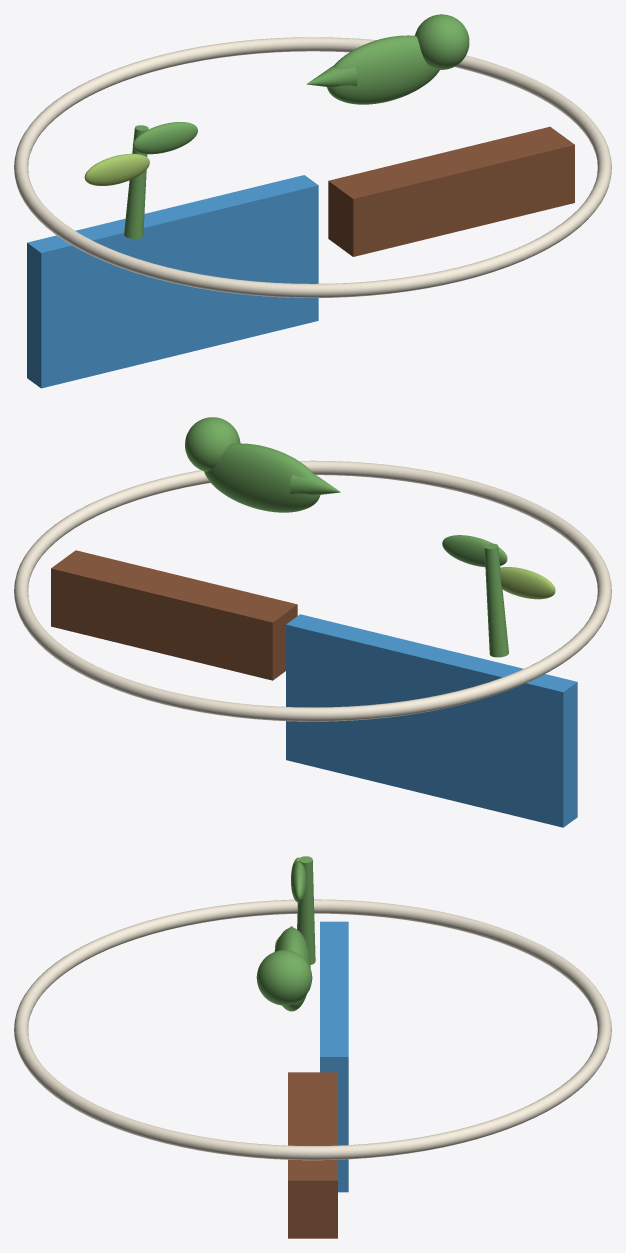
File: bio-p1-habitat.glb
3 renders of one model, top to bottom at view 1: azimuth 30°, elevation 25°; view 2: azimuth 150°, elevation 25°; view 3: azimuth 270°, elevation 25°, orthographic.
Parts seen in each view (by area): view 1: pond-water-place, shelter-log-place, habitat-boundary-home, resident-organism-body, resident-organism-head, producer-plant-leaf-left, producer-plant-leaf-right, producer-plant-stem, resident-organism-tail; view 2: pond-water-place, shelter-log-place, habitat-boundary-home, resident-organism-body, resident-organism-head, producer-plant-stem, producer-plant-leaf-left, producer-plant-leaf-right, resident-organism-tail; view 3: habitat-boundary-home, shelter-log-place, pond-water-place, resident-organism-head, producer-plant-stem, resident-organism-body, producer-plant-leaf-right.
Boxes of the visible parts, bbox=[...] form: pond-water-place: bbox=[27, 175, 318, 388]; shelter-log-place: bbox=[328, 126, 574, 256]; habitat-boundary-home: bbox=[14, 37, 611, 297]; resident-organism-body: bbox=[327, 35, 439, 104]; resident-organism-head: bbox=[415, 14, 469, 69]; producer-plant-leaf-left: bbox=[84, 153, 149, 185]; producer-plant-leaf-right: bbox=[132, 122, 197, 154]; producer-plant-stem: bbox=[124, 125, 148, 238]; resident-organism-tail: bbox=[306, 65, 357, 87]; pond-water-place: bbox=[286, 614, 577, 827]; shelter-log-place: bbox=[51, 550, 297, 680]; habitat-boundary-home: bbox=[14, 460, 611, 721]; resident-organism-body: bbox=[204, 443, 320, 512]; resident-organism-head: bbox=[185, 417, 240, 471]; producer-plant-stem: bbox=[484, 543, 508, 657]; producer-plant-leaf-left: bbox=[500, 567, 555, 599]; producer-plant-leaf-right: bbox=[442, 535, 507, 567]; resident-organism-tail: bbox=[289, 473, 340, 495]; habitat-boundary-home: bbox=[14, 899, 611, 1160]; shelter-log-place: bbox=[288, 1072, 337, 1238]; pond-water-place: bbox=[320, 921, 348, 1192]; resident-organism-head: bbox=[256, 950, 312, 1005]; producer-plant-stem: bbox=[297, 856, 315, 964]; resident-organism-body: bbox=[274, 927, 310, 1011]; producer-plant-leaf-right: bbox=[291, 861, 306, 902].
Size of what is drawn, in the model's own units: 1.71 by 0.9026 by 1.68.
